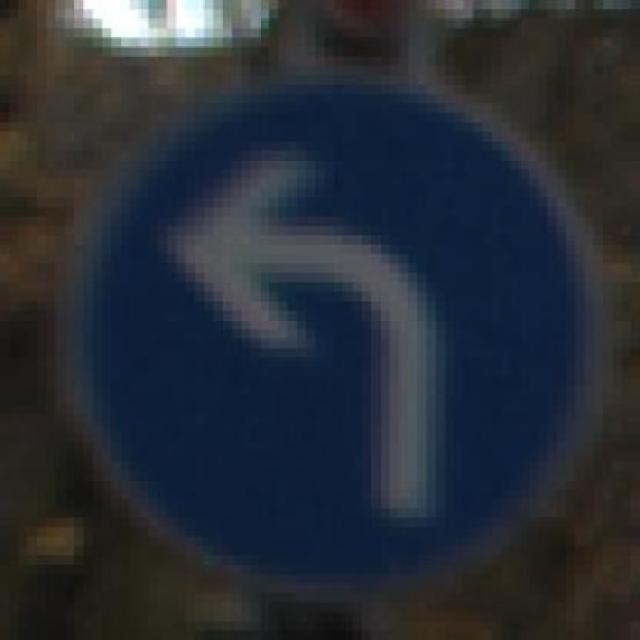Turn left ahead: (64, 75, 622, 602)
